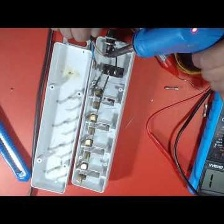three_eye_plug: (67, 31, 137, 193)
